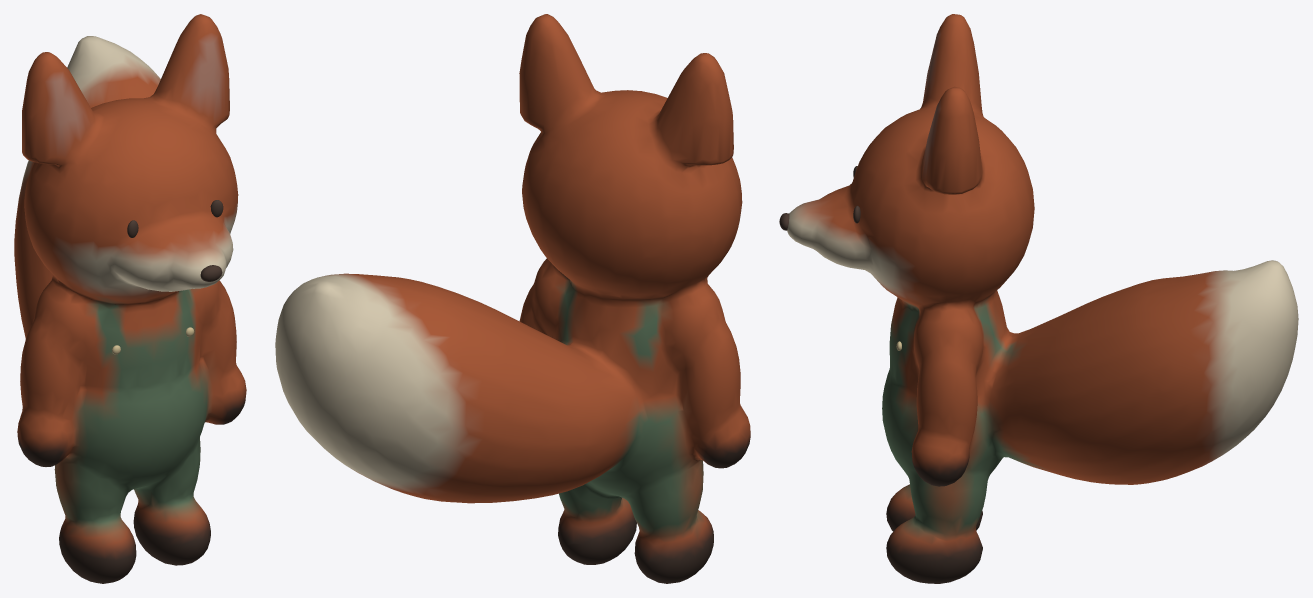
File: fox_v01.glb
3 views of the same model, side by side, from view 1: azimuth 30°, elevation 25°; view 2: azimuth 150°, elevation 25°; view 3: azimuth 270°, elevation 25° (orthographic). The views are drawn at different scales.
Visible parts, largest first — view 1: Fox_Body_Continuous; view 2: Fox_Body_Continuous; view 3: Fox_Body_Continuous.
Part boxes in pixels (x1,y1,x2,y2): Fox_Body_Continuous: (14,14,246,583); Fox_Body_Continuous: (275,14,750,583); Fox_Body_Continuous: (787,14,1298,583).
Bounding box in the file's own units: 0.7935 × 1.3 × 1.2.
